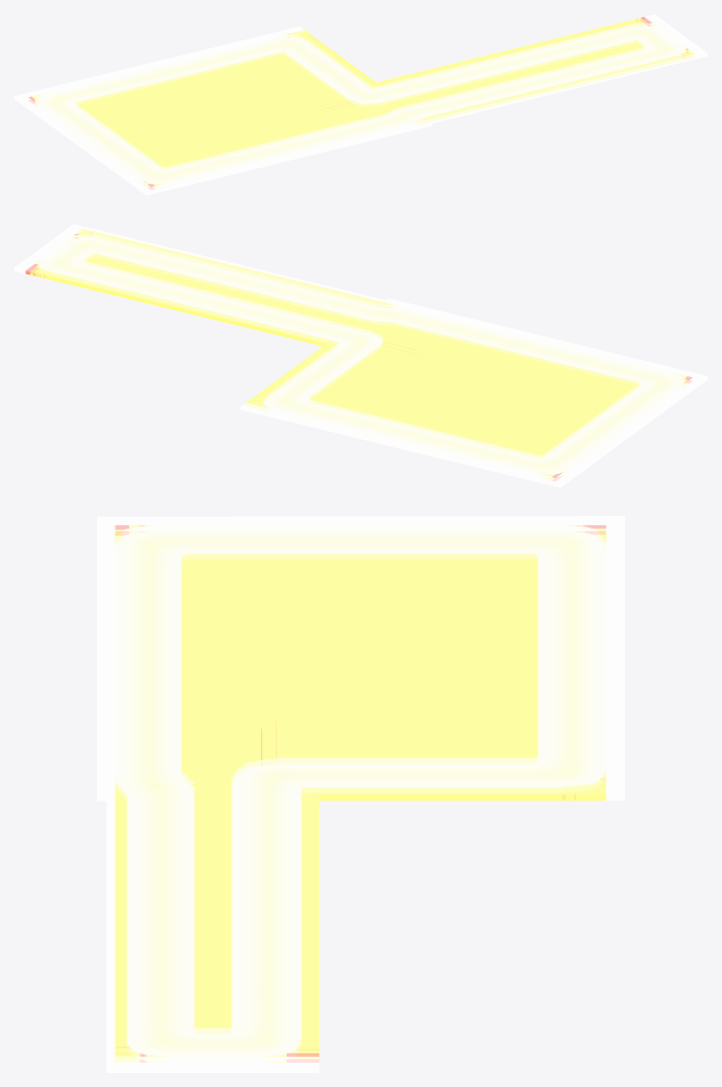
Rendered from ceilingUpper.fbx.
3 renders of one model, top to bottom at view 1: azimuth 30°, elevation 25°; view 2: azimuth 150°, elevation 25°; view 3: azimuth 270°, elevation 25°, orthographic. The views are drawn at different scales.
Visible parts, largest first — view 1: ceilingUpper; view 2: ceilingUpper; view 3: ceilingUpper.
Part boxes in pixels (x1,y1,x2,y2): ceilingUpper: [14, 14, 707, 195]; ceilingUpper: [14, 224, 707, 487]; ceilingUpper: [97, 516, 624, 1072].
Bounding box in the file's own units: 593 × 3 × 241.
